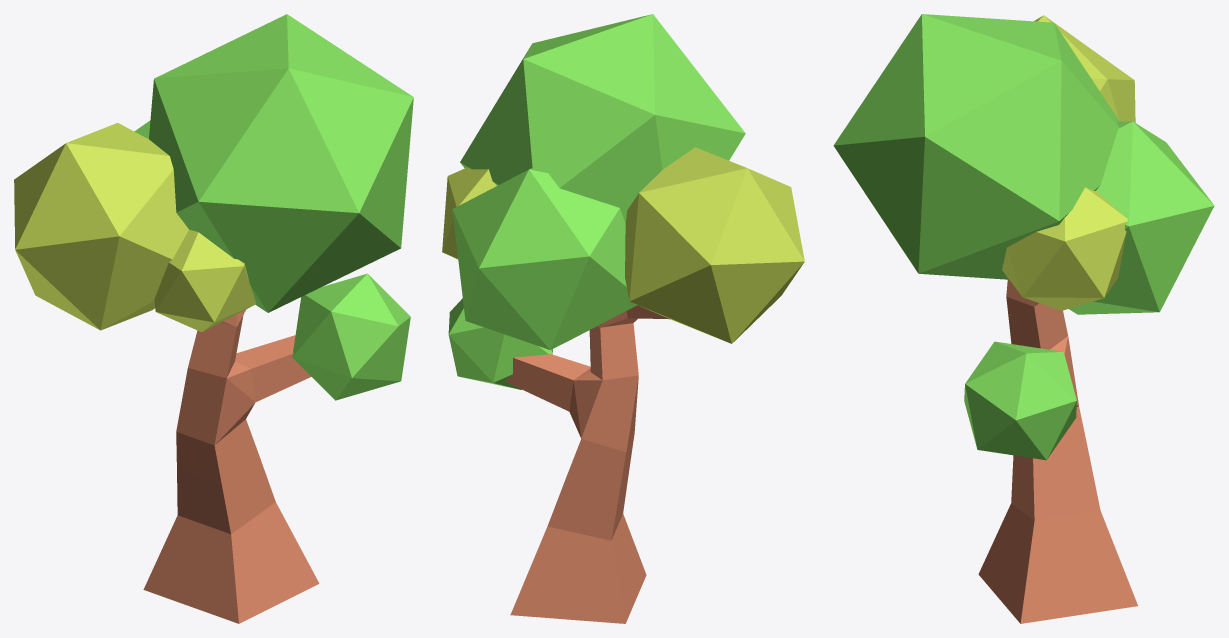
The model's file is Tree 3.fbx.
3 views of the same model, side by side, from view 1: azimuth 30°, elevation 25°; view 2: azimuth 150°, elevation 25°; view 3: azimuth 270°, elevation 25° (orthographic). The views are drawn at different scales.
Visible parts, largest first — view 1: Tree 3; view 2: Tree 3; view 3: Tree 3.
Boxes of the visible parts, x1,y1,x2,y2 form: Tree 3: [14, 14, 413, 623]; Tree 3: [442, 14, 804, 623]; Tree 3: [833, 14, 1214, 623].
Bounding box in the file's own units: 474 × 669 × 405.
